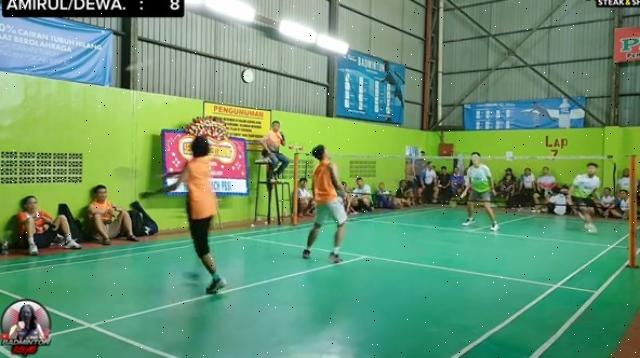Shuttlecock: (120, 54, 158, 76)
